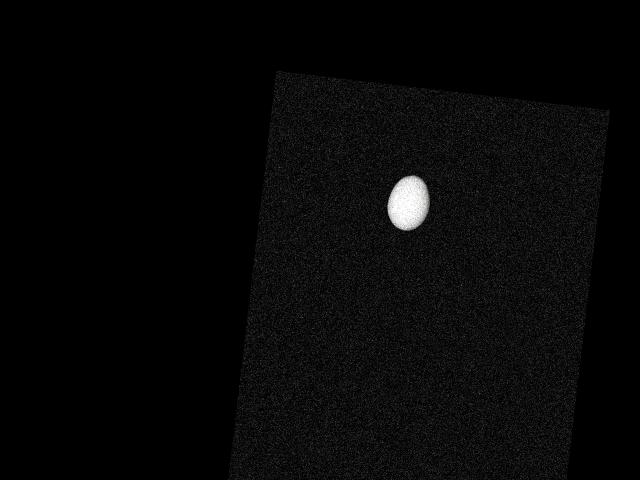egg: (385, 173, 432, 233)
